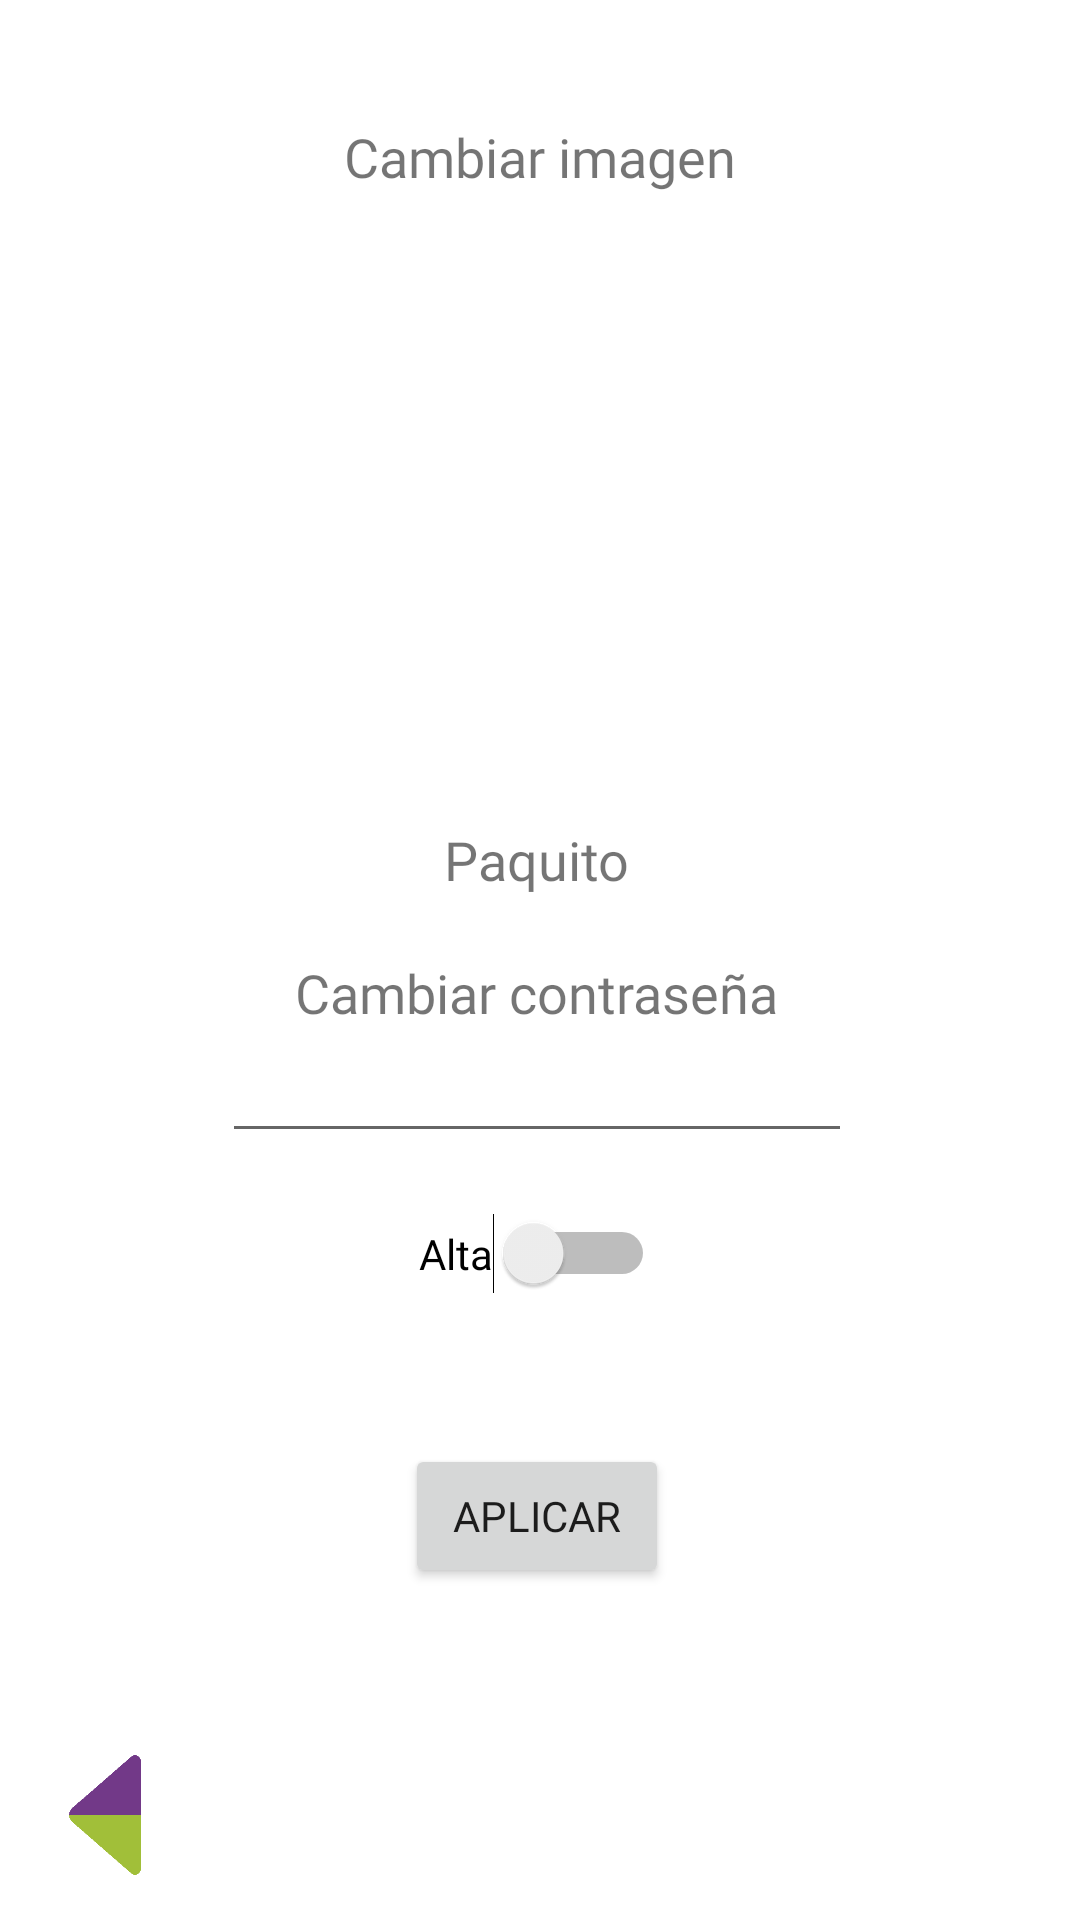

Icon click points for this 1080px x 1920px phone screenshot, format [x,y]:
volver sc: [105,1815]
